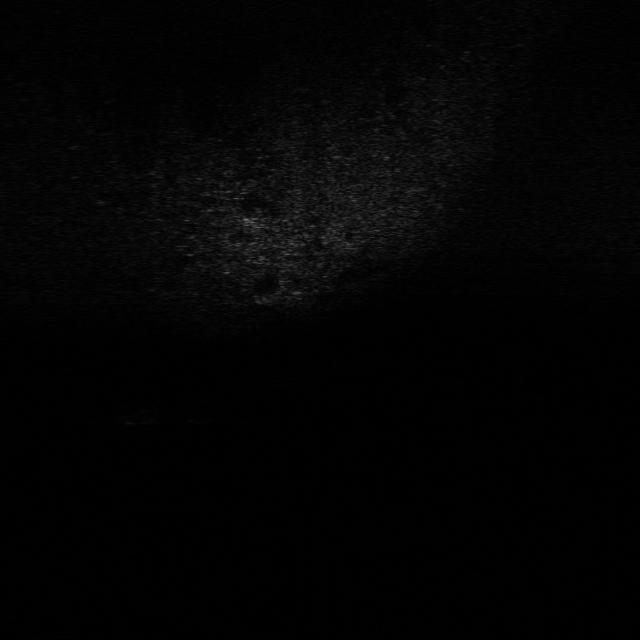ball: (182, 392, 222, 427)
circle cage: (109, 399, 162, 431)
